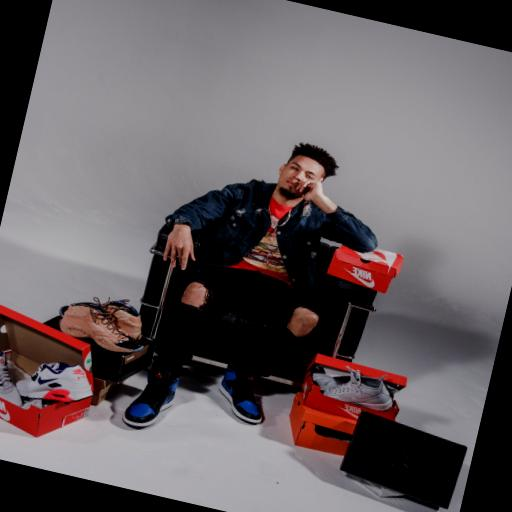shoe: (59, 305, 142, 352), (122, 368, 177, 428), (323, 366, 392, 411), (16, 362, 91, 402), (219, 365, 260, 424), (101, 299, 141, 340), (0, 352, 20, 406), (69, 298, 104, 312)
